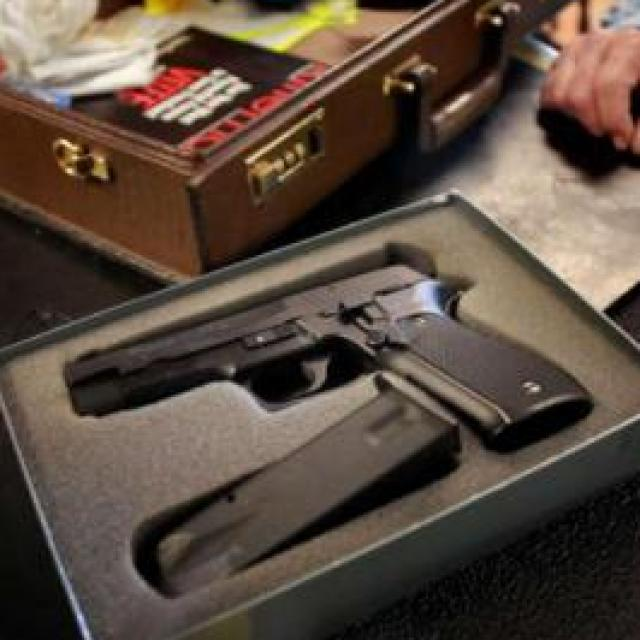pistol: (70, 257, 588, 453)
